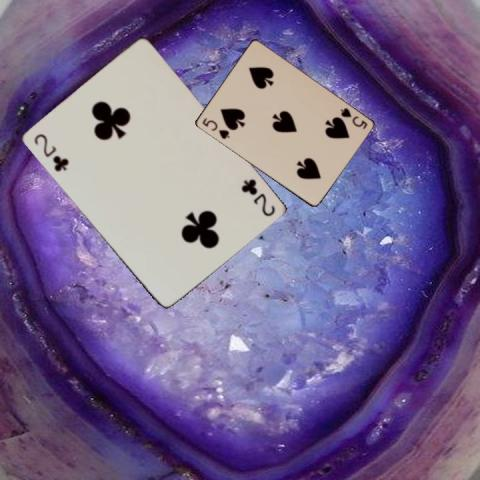2c: (237, 175, 277, 218), (30, 131, 70, 173)
5s: (198, 114, 230, 140), (337, 104, 369, 130)
